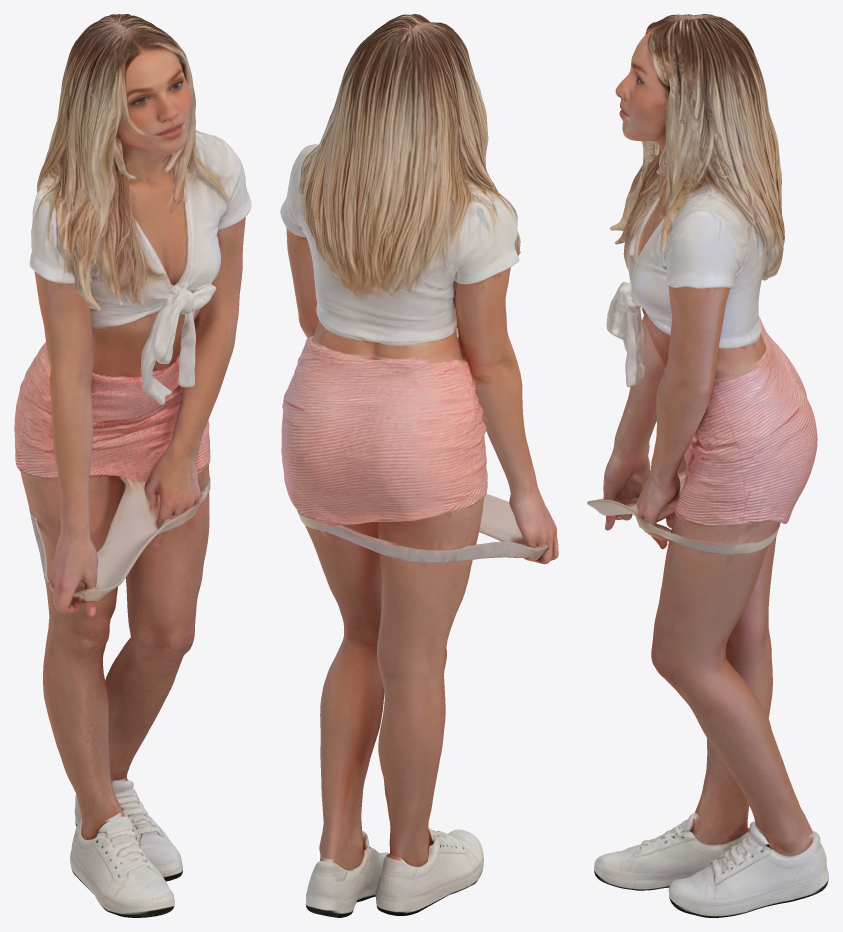
The picture shows the model from 3 angles, left to right: view 1: azimuth 30°, elevation 25°; view 2: azimuth 150°, elevation 25°; view 3: azimuth 270°, elevation 25°; orthographic projection.
Parts seen in each view (by area): view 1: Mesh_0_modddif_material_0_0 (×2); view 2: Mesh_0_modddif_material_0_0 (×2); view 3: Mesh_0_modddif_material_0_0 (×2).
Boxes of the visible parts, x1,y1,x2,y2 form: Mesh_0_modddif_material_0_0 (×2): (14,14,251,917); Mesh_0_modddif_material_0_0 (×2): (280,14,558,917); Mesh_0_modddif_material_0_0 (×2): (587,14,828,917).
Bounding box in the file's own units: 0.2774 × 1 × 0.251.
1 material, 1 textured.
